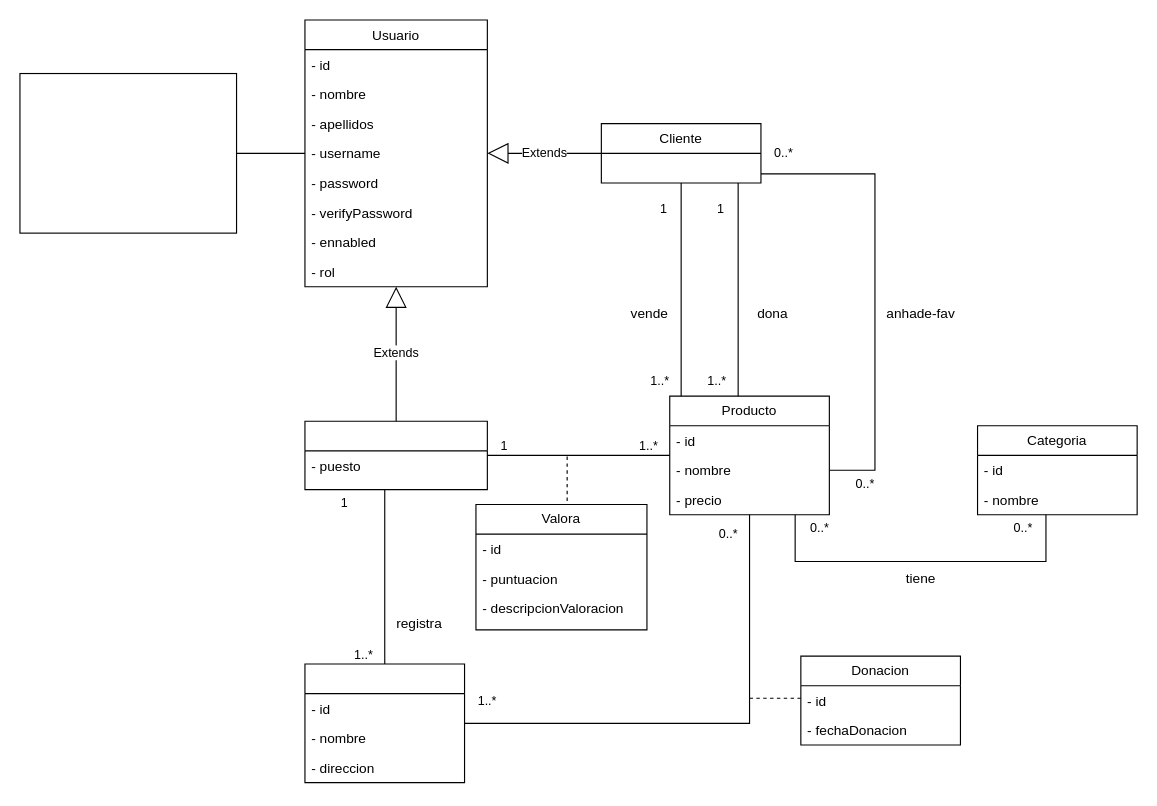
Image size: 1157x806. Some labels were removed from this diagram. Each missing label, with the box of its shape:
<<Enumeration>> Rol ADMIN TRABAJADOR CLIENTE: (19, 72, 237, 233)
Organizacion: (304, 663, 465, 783)
Trabajador: (304, 420, 487, 490)
